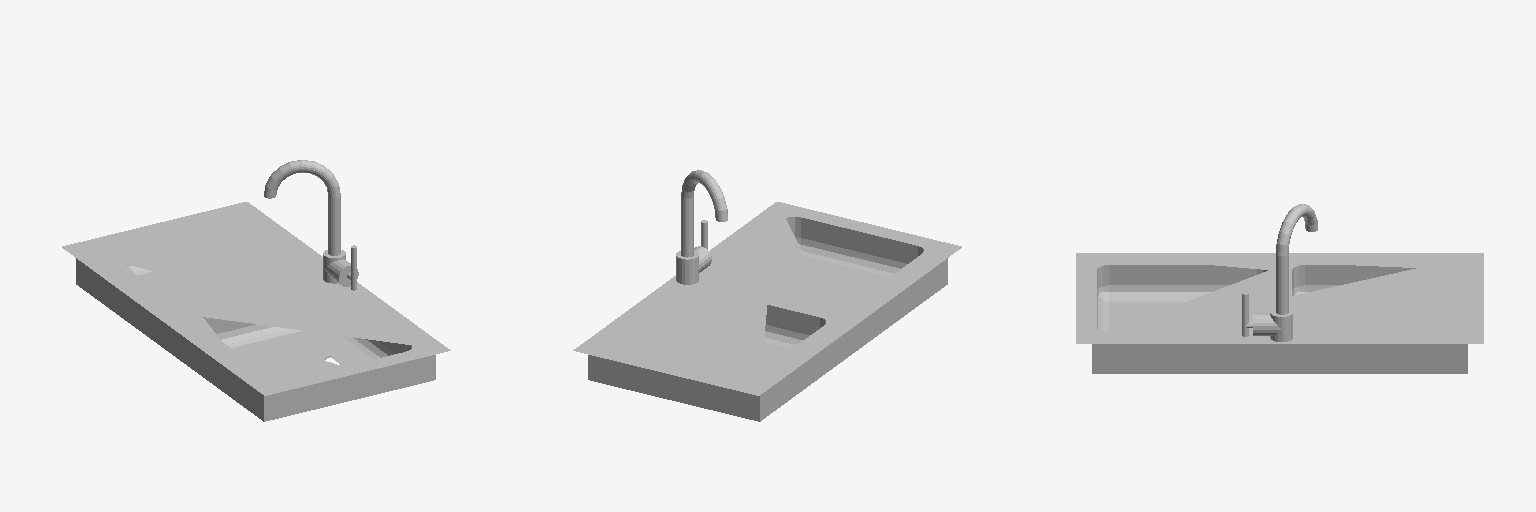
Rendered from sink2.obj.
The picture shows the model from 3 angles: view 1: azimuth 30°, elevation 25°; view 2: azimuth 150°, elevation 25°; view 3: azimuth 270°, elevation 25°; orthographic projection.
Visible parts, largest first — view 1: pCube7, pTorus1; view 2: pCube7, pTorus1, pCylinder3; view 3: pCube7, pTorus1, pCylinder3.
Boxes of the visible parts, x1=… form: pCube7: x1=62, y1=202, x2=450, y2=421; pTorus1: x1=264, y1=160, x2=340, y2=255; pCube7: x1=573, y1=202, x2=961, y2=421; pTorus1: x1=681, y1=170, x2=727, y2=257; pCylinder3: x1=676, y1=251, x2=698, y2=284; pCube7: x1=1076, y1=253, x2=1483, y2=373; pTorus1: x1=1276, y1=204, x2=1317, y2=314; pCylinder3: x1=1270, y1=308, x2=1292, y2=341.
Bounding box in the file's own units: 1.99 × 1.55 × 3.77.